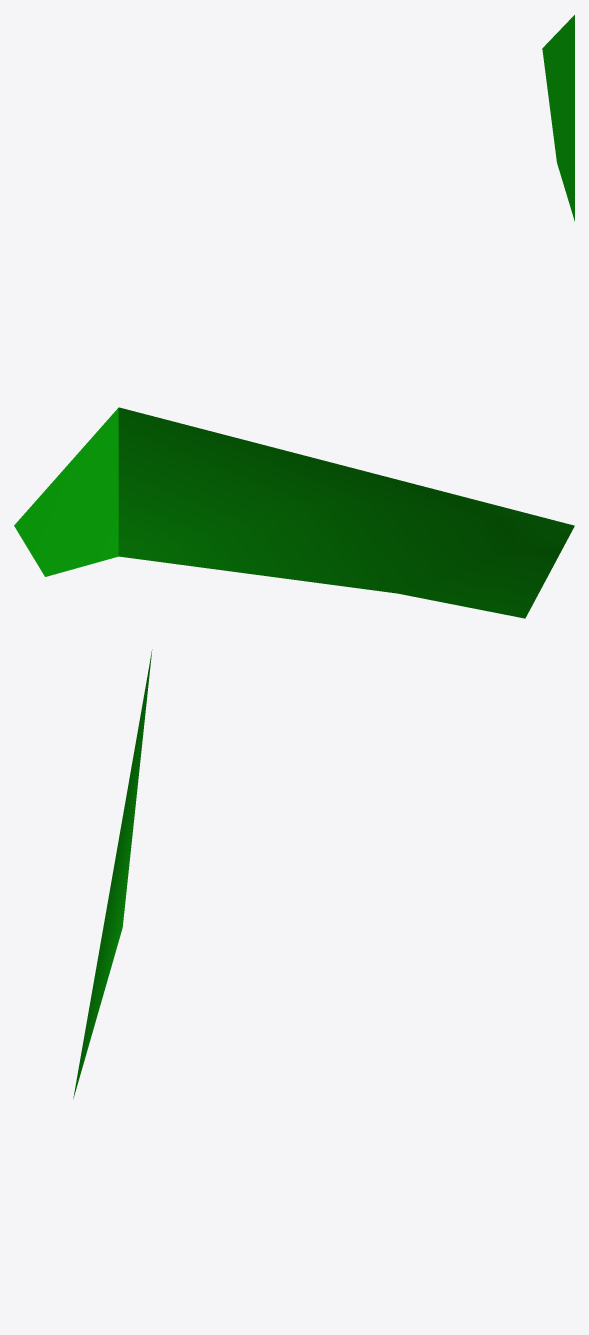
Rendered from M8_Idiot_Stopper_14.glb.
3 renders of one model, top to bottom at view 1: azimuth 30°, elevation 25°; view 2: azimuth 150°, elevation 25°; view 3: azimuth 270°, elevation 25°, orthographic. The views are drawn at different scales.
Visible parts, largest first — view 1: M8_IDIOT_STOPPER_14; view 2: M8_IDIOT_STOPPER_14; view 3: M8_IDIOT_STOPPER_14.
Part boxes in pixels (x1,y1,x2,y2): M8_IDIOT_STOPPER_14: (542,15,574,221); M8_IDIOT_STOPPER_14: (14,407,574,618); M8_IDIOT_STOPPER_14: (73,649,152,1098).
Bounding box in the file's own units: 28.02 × 9.33 × 11.44.
